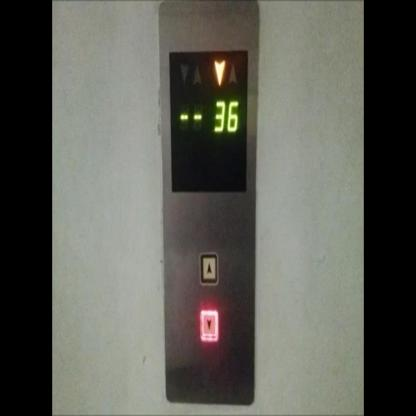down: (200, 309, 218, 342)
led: (169, 49, 248, 193)
up: (199, 252, 219, 286)
